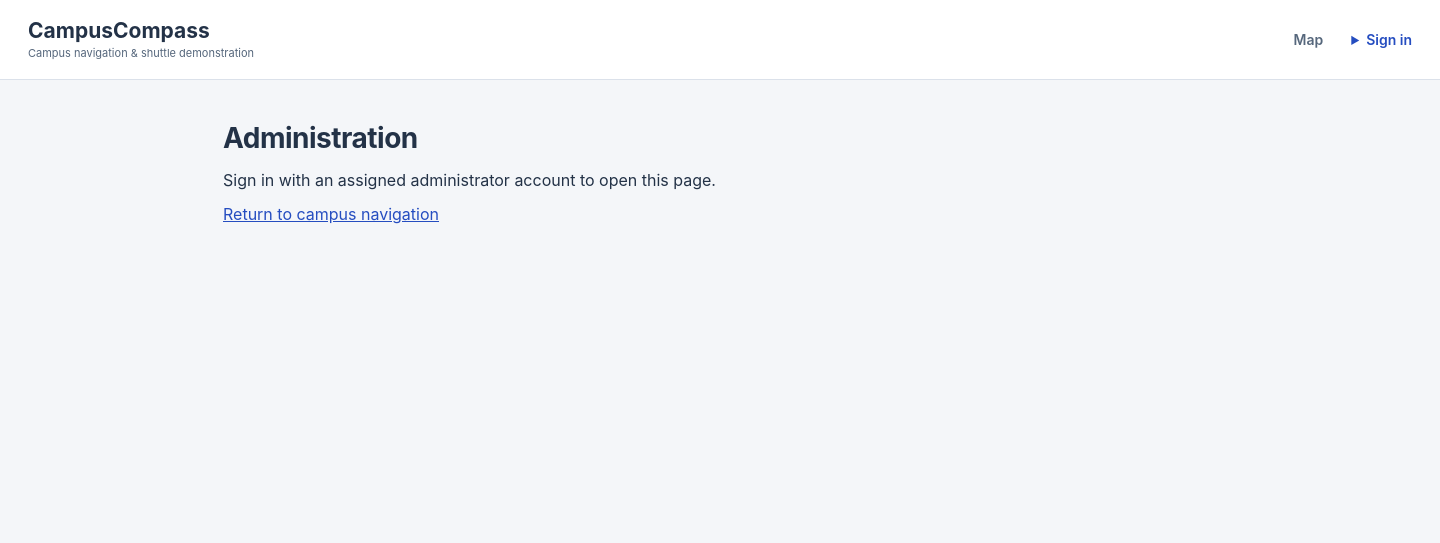
Scenario: server-issued admin identity opens administration and logout immediately removes it
The width and height of the screenshot is (1440, 543).
Step 1. Click the heading "Sign in" → (1389, 40), box [1366,31,1412,48]
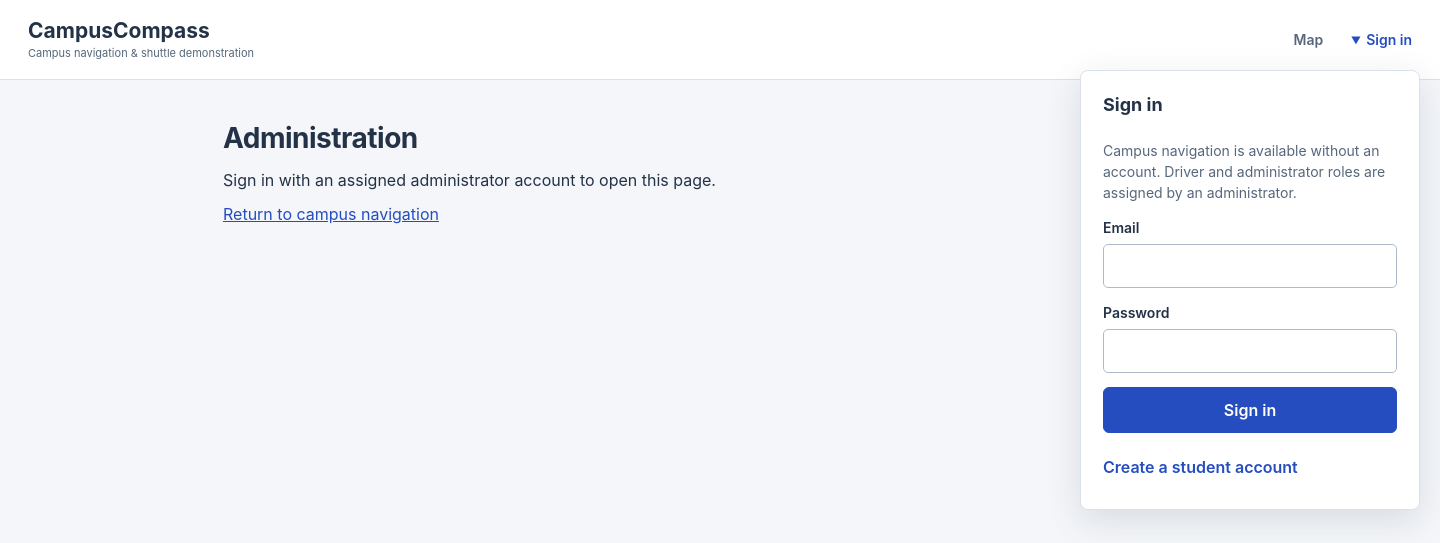
Step 2. Type "demo@example.test" into the field labelled "Email" → (1250, 266), box [1103,244,1397,288]
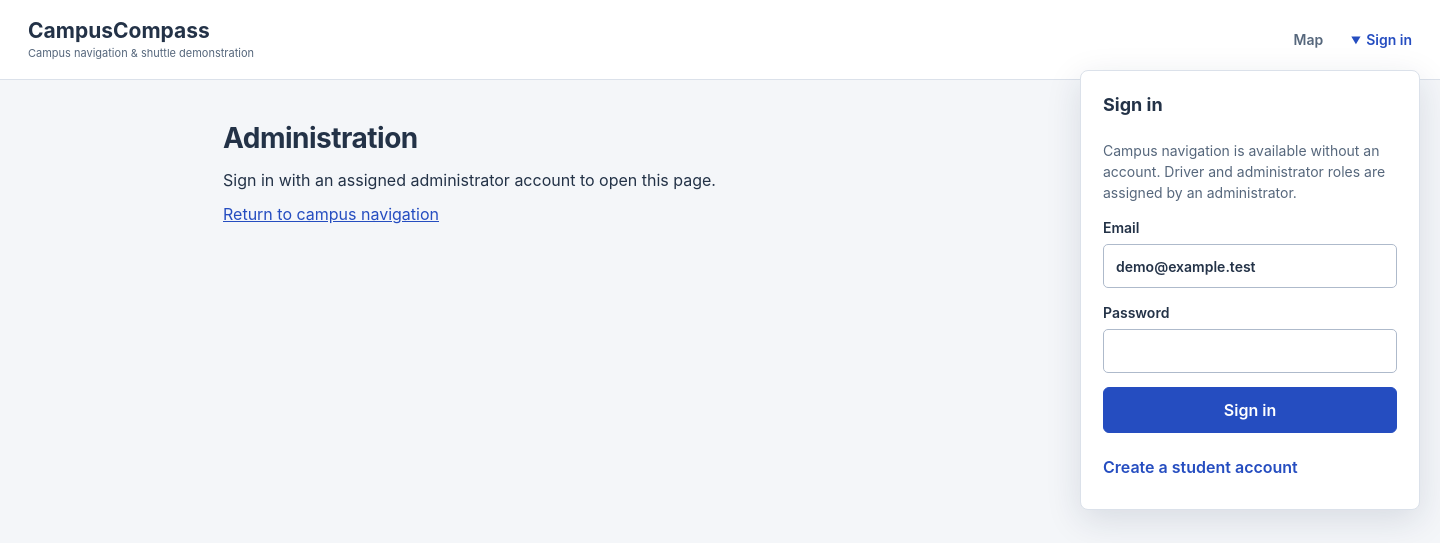
Step 3. Type "demo-long-password" into the password field labelled "Password" → (1250, 351), box [1103,329,1397,373]
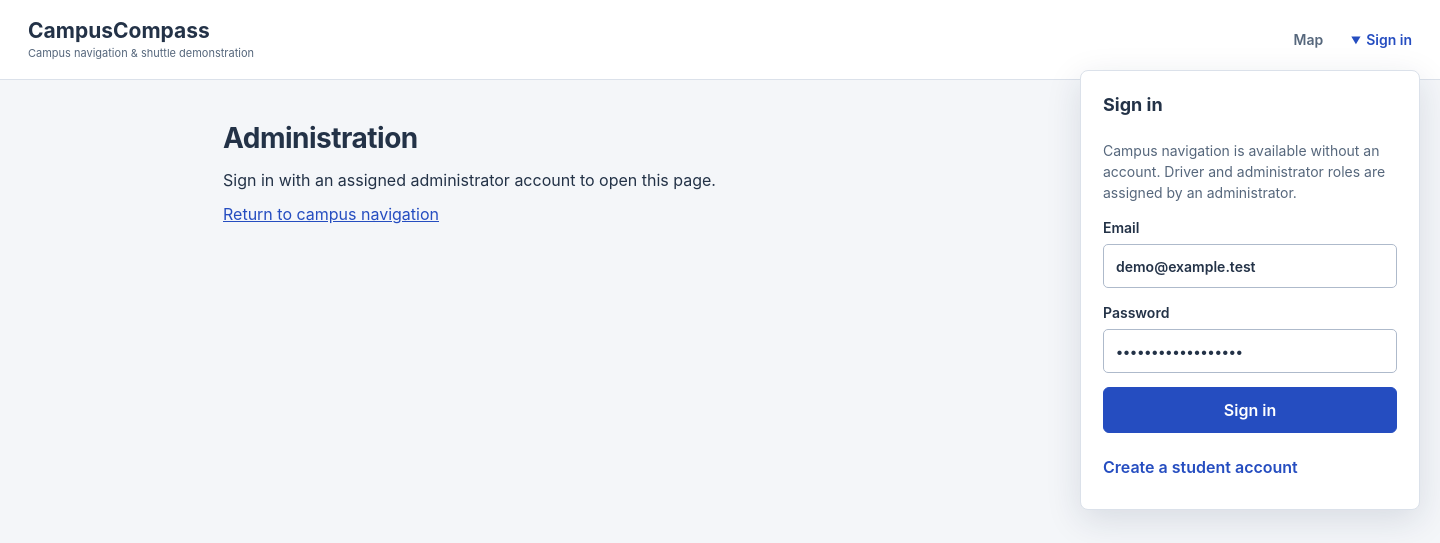
Step 4. Submit the form named "Email", box [1080,70,1420,510]
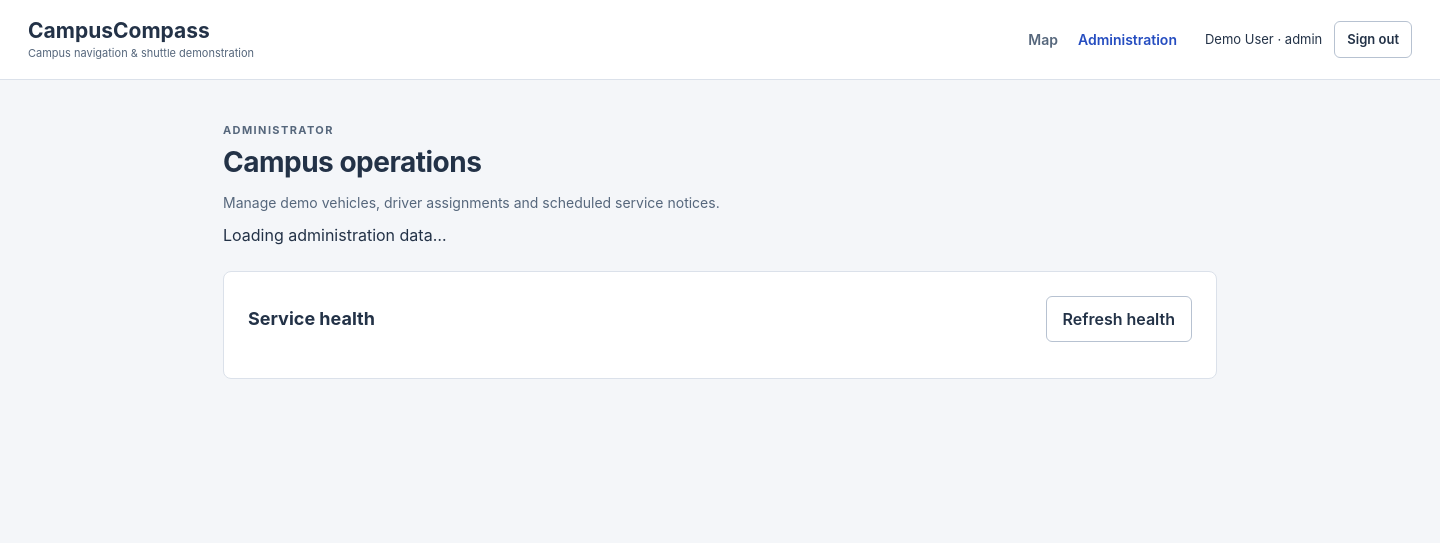
Check: the button "Sign out" is shown
Check: the heading "Campus operations" is shown, box [223,145,481,179]
Step 5. Click the button "Sign out" → (1373, 40), box [1334,21,1412,58]
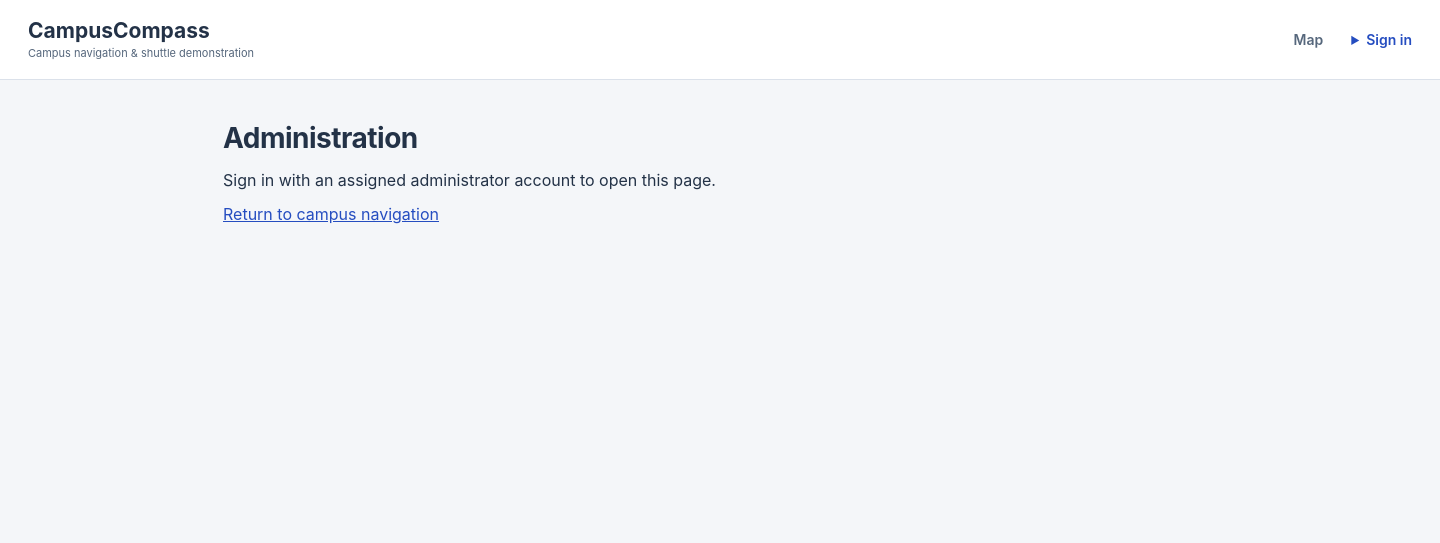
Check: the heading "Campus operations" is gone
